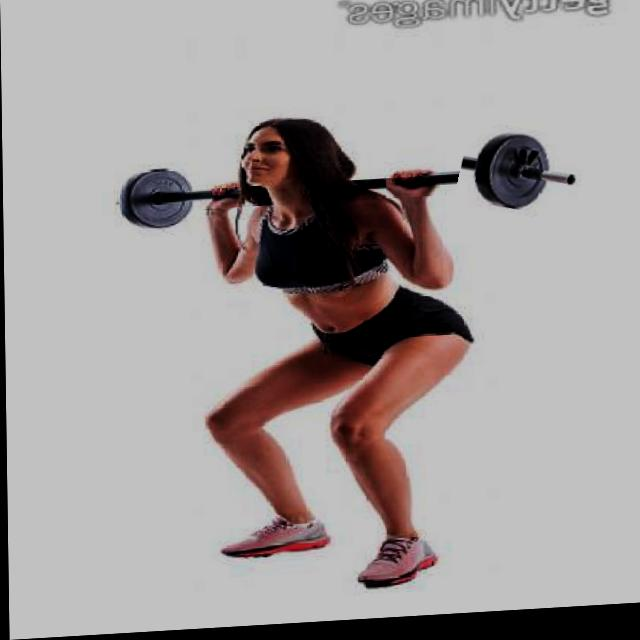barbell: (454, 117, 600, 247)
